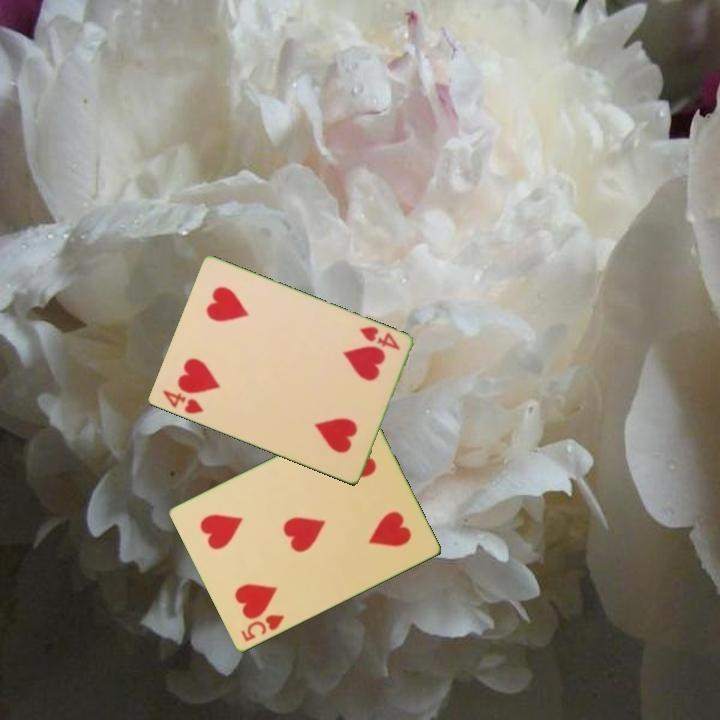4h: (158, 387, 206, 417), (355, 323, 403, 353)
5h: (237, 611, 287, 645)
